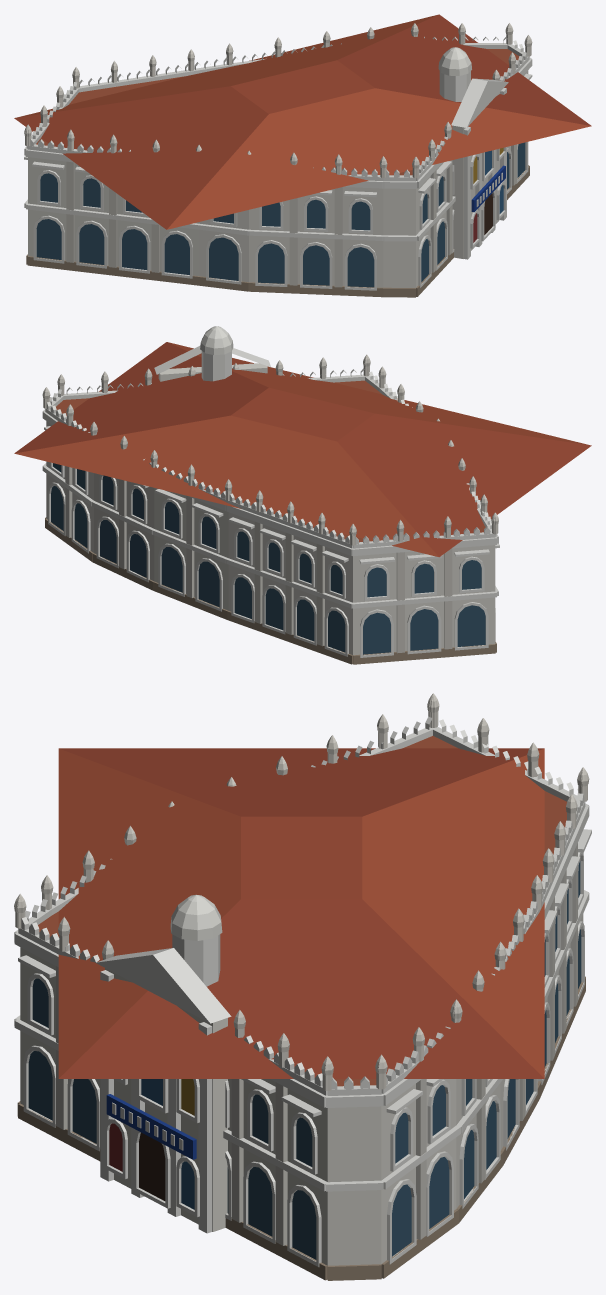
Rendered from higginbothams.glb.
The picture shows the model from 3 angles, top to bottom: view 1: azimuth 30°, elevation 25°; view 2: azimuth 150°, elevation 25°; view 3: azimuth 270°, elevation 25°; orthographic projection. The views are drawn at different scales.
Visible parts, largest first — view 1: higginbothams; view 2: higginbothams; view 3: higginbothams.
Part boxes in pixels (x1,y1,x2,y2): higginbothams: (14,14,591,297); higginbothams: (14,326,591,664); higginbothams: (14,693,591,1280).
Size of the model in its own units: 45.32 by 17 by 30.08.
